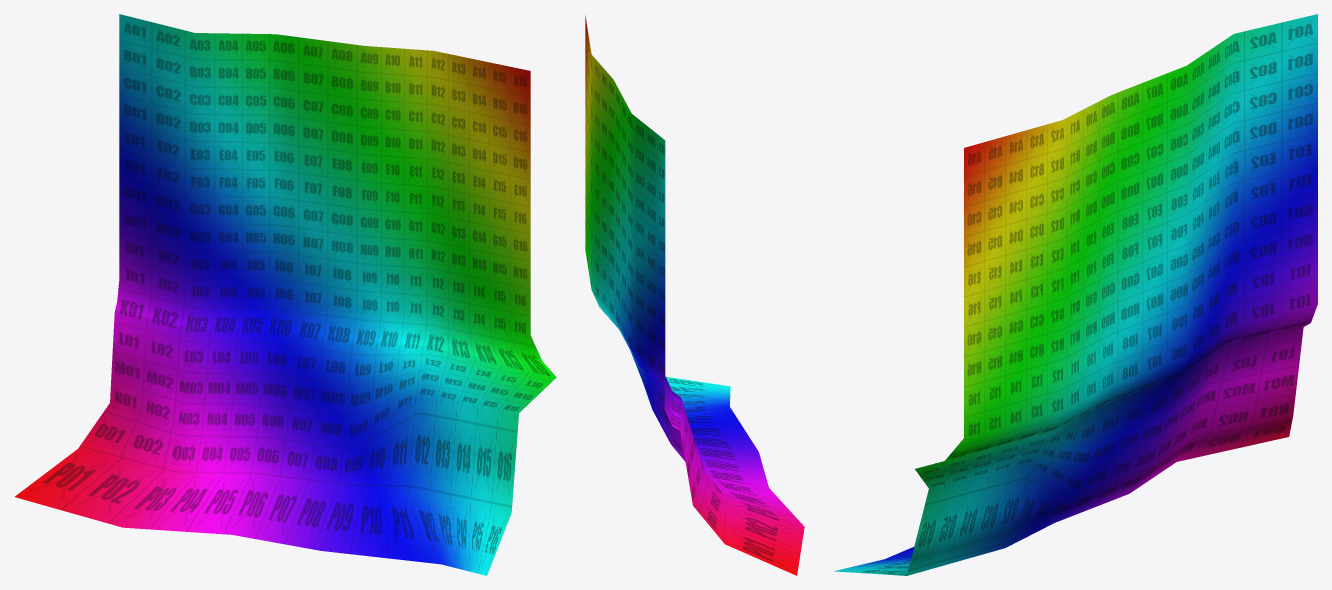
The model's file is fogwall_03.fbx.
3 views of the same model, side by side, from view 1: azimuth 30°, elevation 25°; view 2: azimuth 150°, elevation 25°; view 3: azimuth 270°, elevation 25° (orthographic). The views are drawn at different scales.
Visible parts, largest first — view 1: fogwall_01; view 2: fogwall_01; view 3: fogwall_01.
Part boxes in pixels (x1,y1,x2,y2): fogwall_01: (15, 14, 556, 575); fogwall_01: (585, 15, 804, 575); fogwall_01: (834, 14, 1317, 575).
Size of the model in its own units: 2.01 by 2.02 by 2.2.
